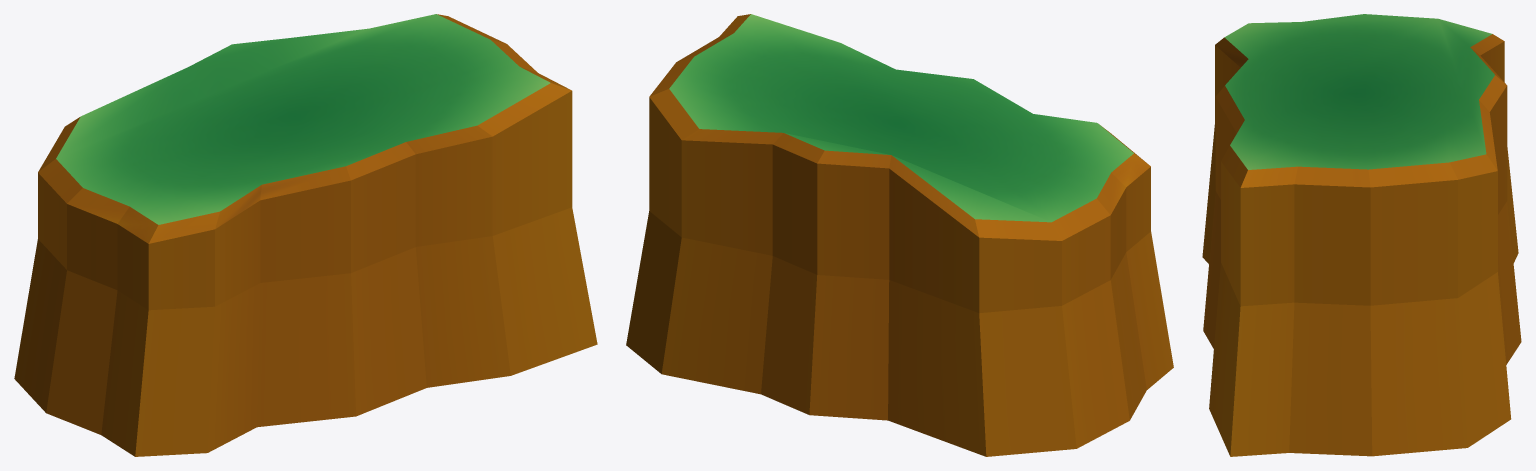
File: cliff_3.fbx
3 renders of one model, left to right at view 1: azimuth 30°, elevation 25°; view 2: azimuth 150°, elevation 25°; view 3: azimuth 270°, elevation 25°, orthographic. The views are drawn at different scales.
Visible parts, largest first — view 1: Plane; view 2: Plane; view 3: Plane.
Part boxes in pixels (bbox=[...]): Plane: bbox=[14, 14, 597, 456]; Plane: bbox=[626, 14, 1173, 456]; Plane: bbox=[1202, 14, 1521, 456].
Size of the model in its own units: 1511 by 789 by 851.
